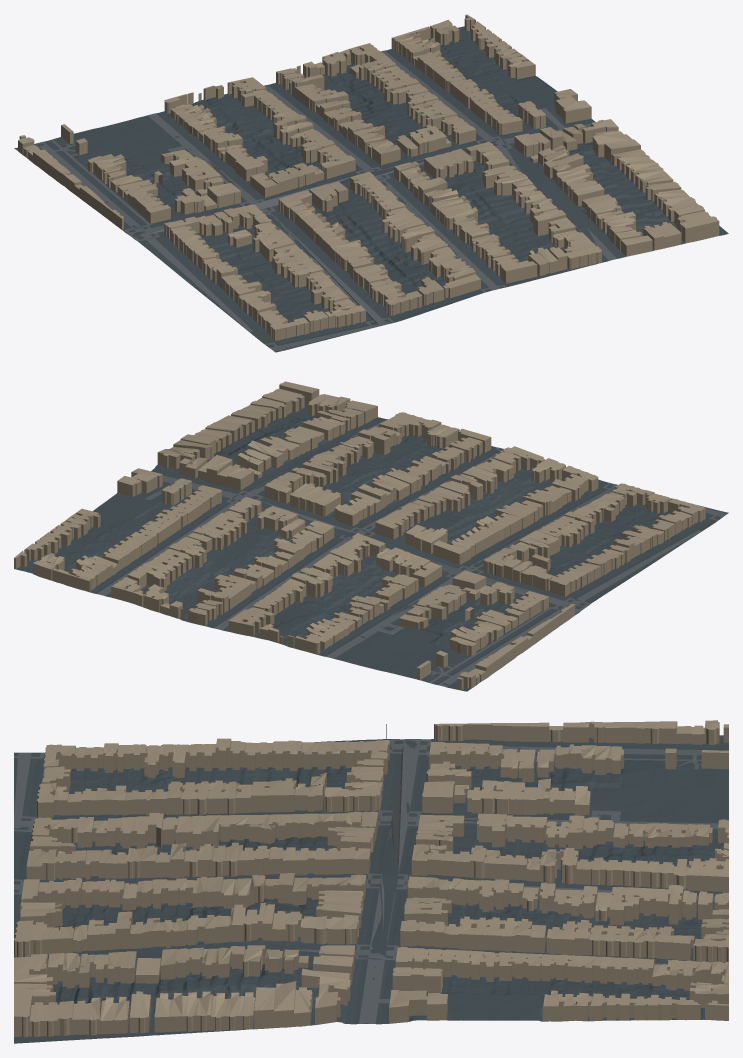
The model's file is epsg26910-1422-10888.lod0.glb.
3 renders of one model, top to bottom at view 1: azimuth 30°, elevation 25°; view 2: azimuth 150°, elevation 25°; view 3: azimuth 270°, elevation 25°, orthographic. The views are drawn at different scales.
Parts seen in each view (by area): view 1: epsg26910-1422-10888-lod0; view 2: epsg26910-1422-10888-lod0; view 3: epsg26910-1422-10888-lod0.
Part boxes in pixels (x1=…): epsg26910-1422-10888-lod0: x1=14, y1=14, x2=728, y2=352; epsg26910-1422-10888-lod0: x1=14, y1=381, x2=728, y2=691; epsg26910-1422-10888-lod0: x1=14, y1=720, x2=728, y2=1043.
Bounding box in the file's own units: 384 × 32.26 × 384.
